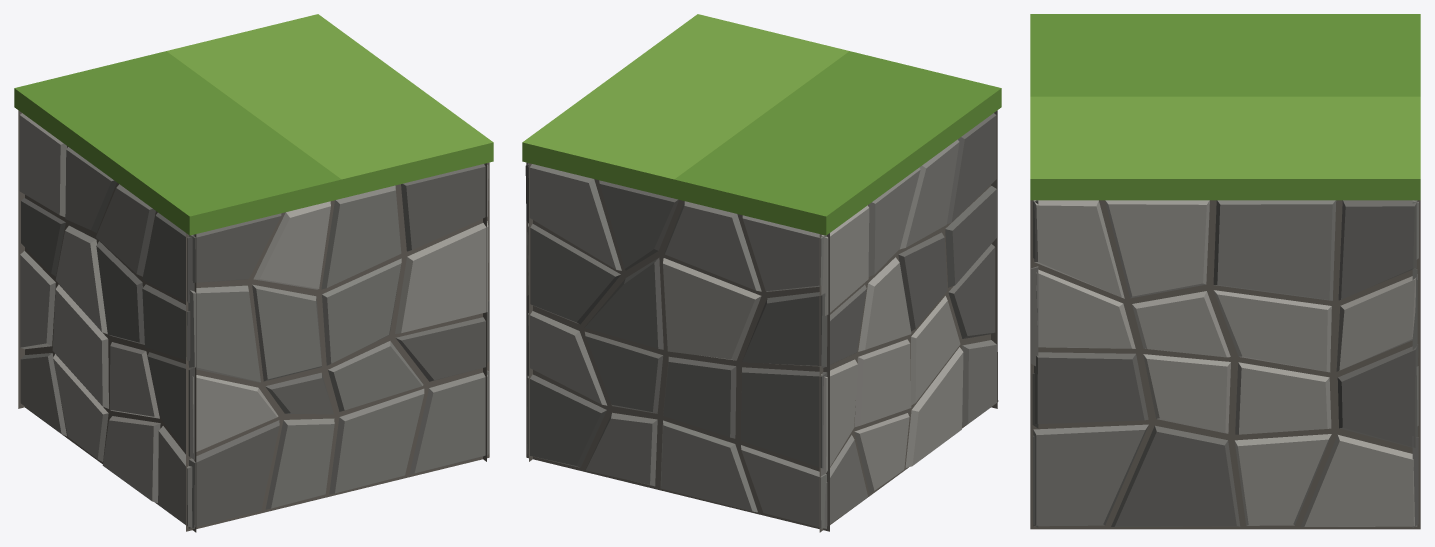
The model's file is bloco_terraco.glb.
3 renders of one model, left to right at view 1: azimuth 30°, elevation 25°; view 2: azimuth 150°, elevation 25°; view 3: azimuth 270°, elevation 25°, orthographic. The views are drawn at different scales.
Visible parts, largest first — view 1: bloco_terraco; view 2: bloco_terraco; view 3: bloco_terraco.
Boxes of the visible parts, left/top/right/bottom form: bloco_terraco: left=14, top=14, right=493, bottom=532; bloco_terraco: left=522, top=14, right=1001, bottom=532; bloco_terraco: left=1030, top=14, right=1420, bottom=529.
Bounding box in the file's own units: 1 × 1 × 1.
